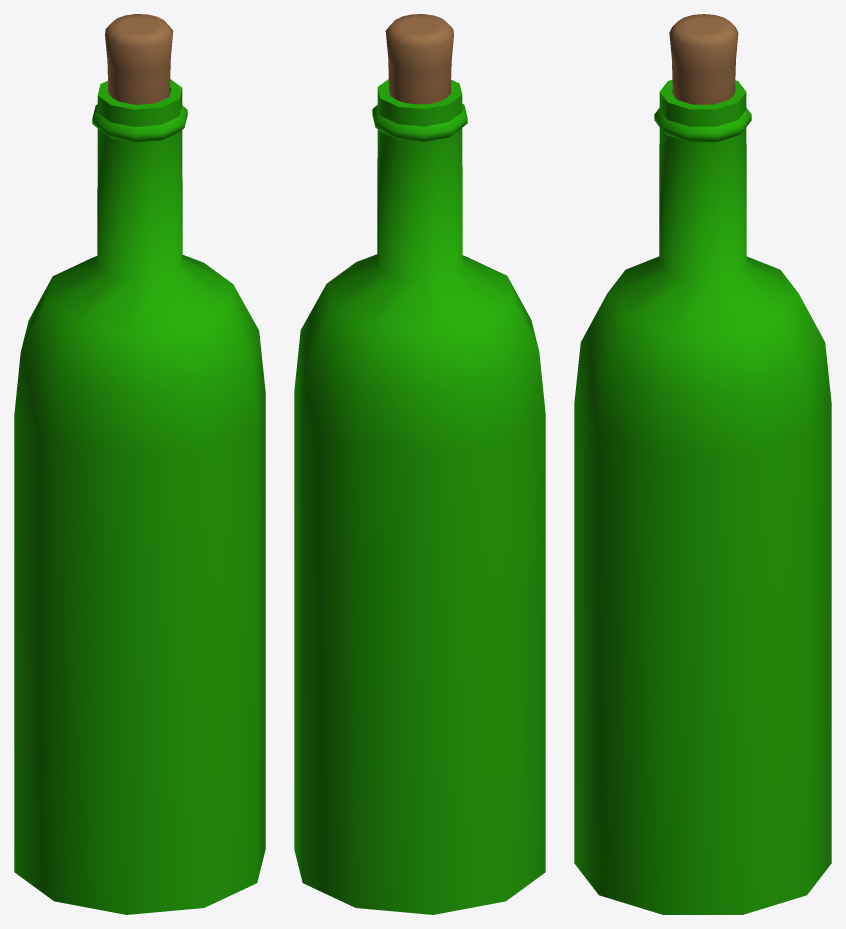
Rendered from WineBottleVar1.fbx.
The picture shows the model from 3 angles, left to right: view 1: azimuth 30°, elevation 25°; view 2: azimuth 150°, elevation 25°; view 3: azimuth 270°, elevation 25°; orthographic projection.
Parts seen in each view (by area): view 1: WineBottleVar1; view 2: WineBottleVar1; view 3: WineBottleVar1.
Boxes of the visible parts, x1,y1,x2,y2 form: WineBottleVar1: [14, 14, 265, 914]; WineBottleVar1: [294, 14, 545, 914]; WineBottleVar1: [574, 14, 831, 914].
Bounding box in the file's own units: 23.75 × 89.61 × 24.97.
